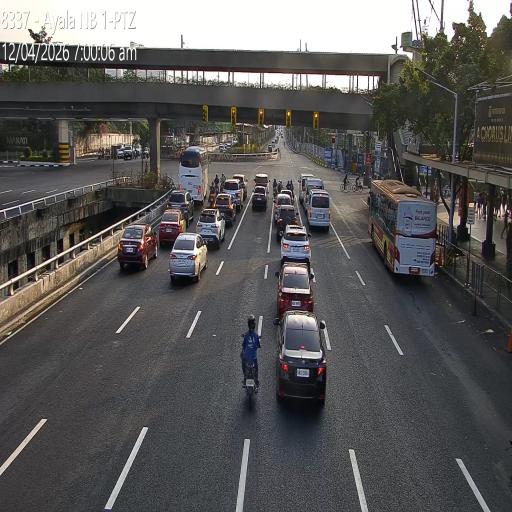Car: (272, 308, 330, 414), (168, 232, 210, 284), (276, 266, 314, 320), (117, 224, 159, 272), (280, 230, 311, 271), (196, 206, 226, 247), (159, 208, 188, 248), (167, 189, 194, 227), (306, 190, 330, 232), (275, 202, 299, 239), (222, 178, 244, 214), (214, 192, 237, 226), (305, 177, 324, 210), (298, 172, 315, 205), (251, 182, 267, 210), (278, 188, 294, 208), (124, 146, 134, 160), (117, 141, 127, 155), (117, 146, 126, 160), (133, 144, 142, 157), (143, 146, 150, 158)
Motor: (239, 315, 264, 413), (208, 181, 216, 209), (220, 172, 227, 191), (214, 172, 220, 194), (289, 179, 295, 200), (272, 176, 276, 200), (101, 146, 105, 160), (107, 146, 111, 160), (134, 147, 138, 160), (105, 146, 108, 160), (98, 147, 101, 160)
Not Accident: (276, 229, 327, 411), (170, 205, 225, 286), (158, 184, 194, 245), (297, 174, 331, 233), (271, 172, 298, 231), (218, 173, 248, 224), (251, 174, 268, 216)
